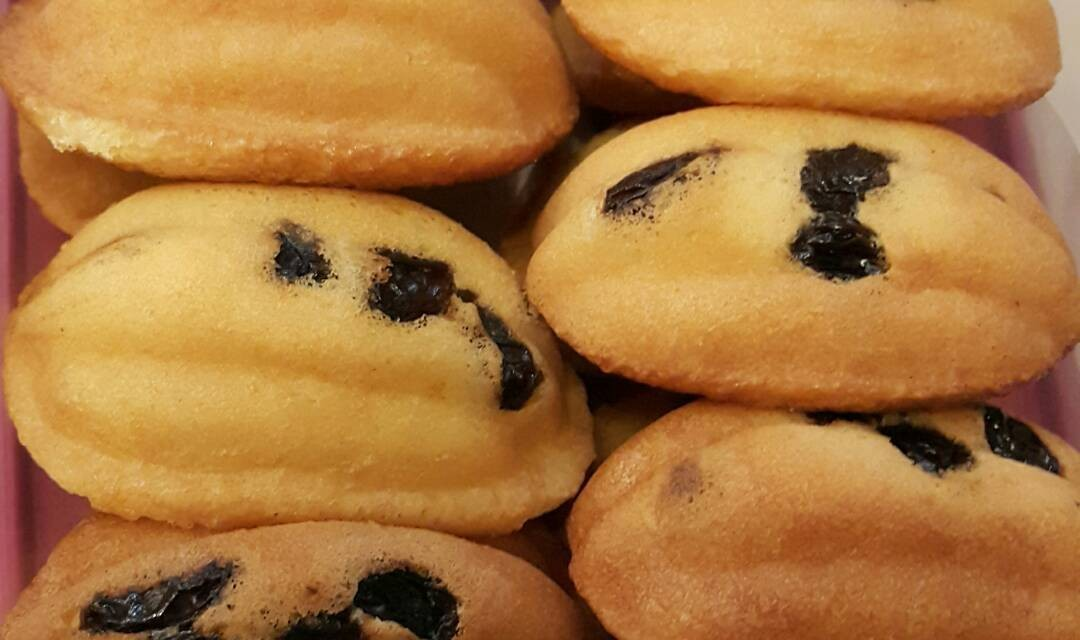kanomkai: (4, 165, 608, 551), (527, 83, 1080, 421), (560, 372, 1080, 637)
